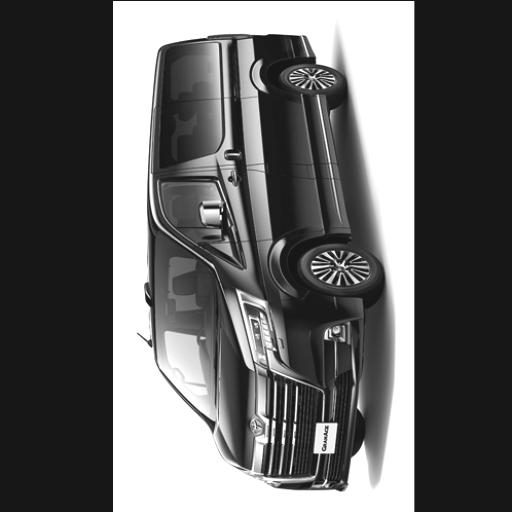van: (144, 35, 381, 489)
